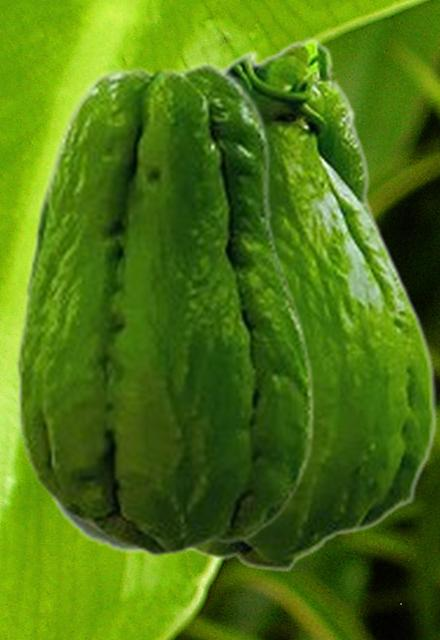sayote: (16, 60, 314, 557), (188, 37, 437, 572)
